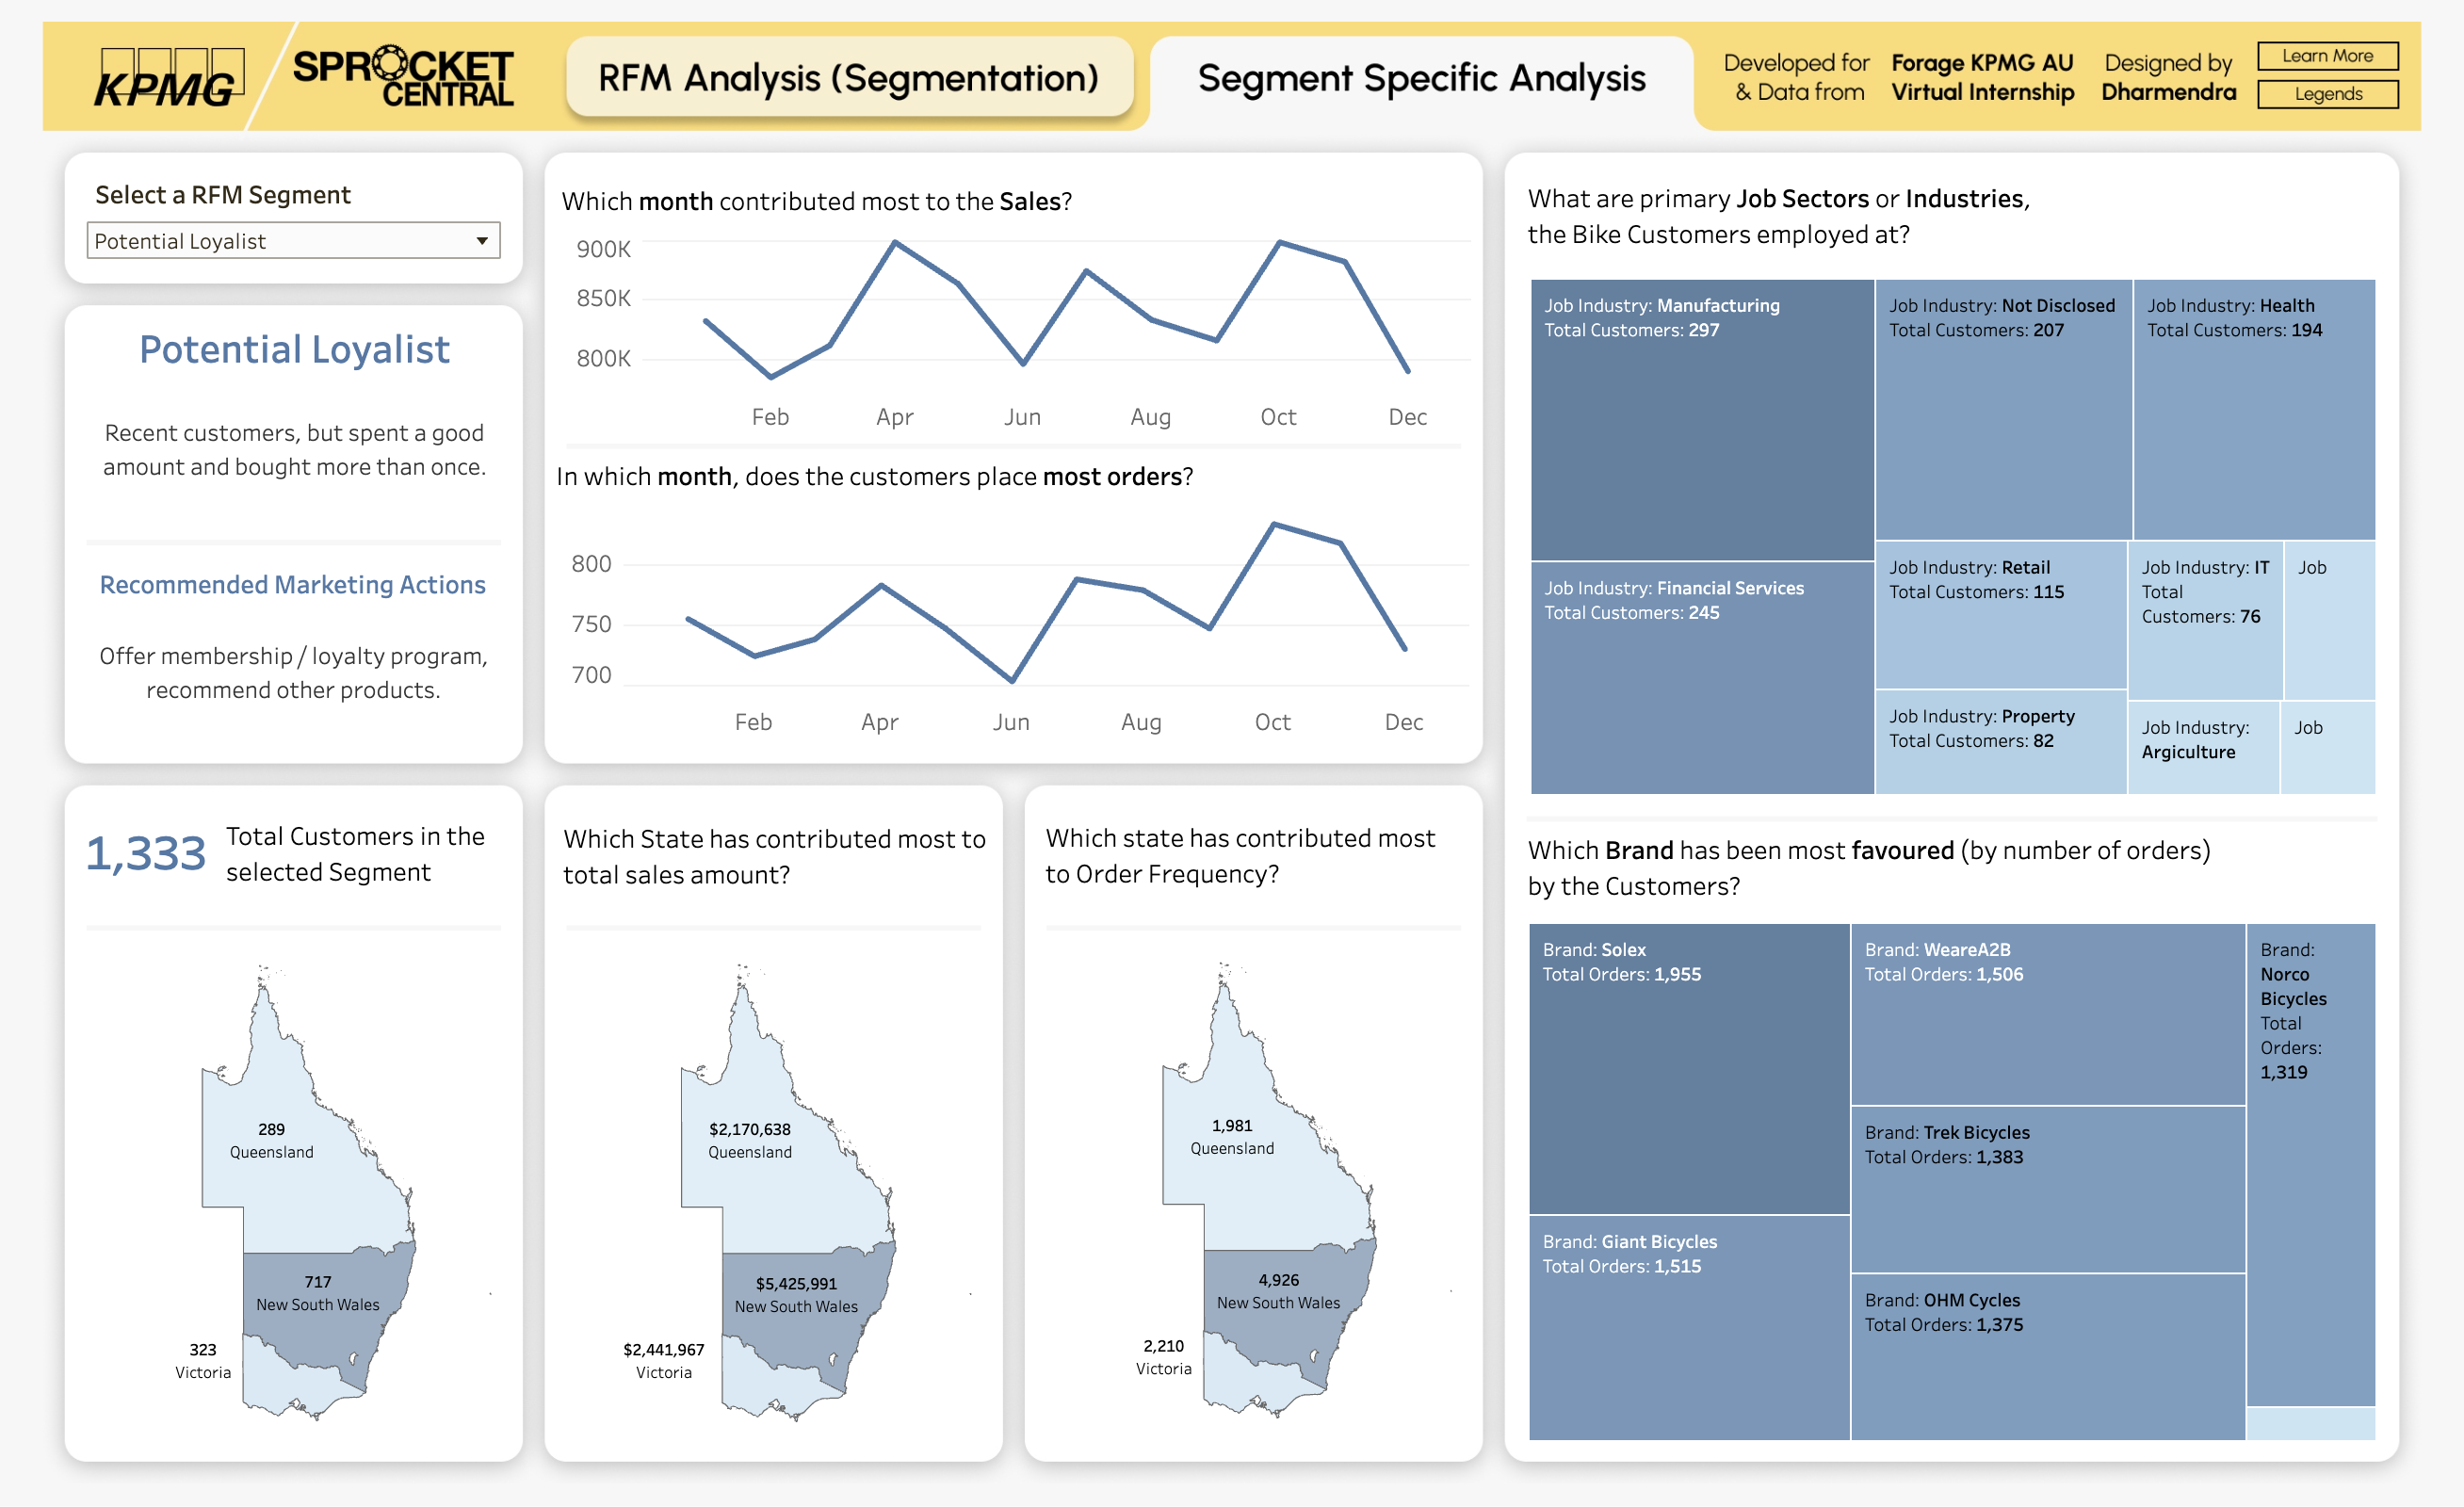

What the dashboard file says about the page in this screenshot:
{"tool":"tableau","page":{"name":"Segment Analysis","canvas":[1308,800],"ordinal":1},"visuals":[{"type":"image","param":"Image/Tableau_ Segment2.png","box":[8,8,1292,784]},{"type":"dashboard-object","box":[309,21,286,41]},{"type":"image","param":"Image/Transparent circle.png","box":[1198,22,76,16]},{"type":"image","param":"Image/Transparent circle.png","box":[1113,23,76,36]},{"type":"text","box":[298,86,481,41]},{"type":"text","box":[811,91,448,48]},{"type":"parameter","param":"[Parameters].[Parameter 12]","box":[45,94,222,53]},{"type":"worksheet","title":"Sales Trend","mark":"Automatic","rows":["list_price"],"cols":["transaction_date"],"box":[296,124,485,112]},{"type":"worksheet","title":"Job Industry","mark":"Automatic","box":[808,144,457,307]},{"type":"blank","box":[34,165,244,322]},{"type":"text","box":[47,170,219,30]},{"type":"worksheet","title":"RFM Segement (Desc)","mark":"Automatic","box":[44,194,225,89]},{"type":"text","box":[295,232,481,41]},{"type":"worksheet","title":"Order Trend","mark":"Automatic","rows":["transaction_id"],"cols":["transaction_date"],"box":[295,273,485,125]},{"type":"text","box":[44,295,223,30]},{"type":"worksheet","title":"RFM Segment (Action)","mark":"Automatic","box":[41,315,230,84]},{"type":"text","box":[299,426,226,58]},{"type":"worksheet","title":"Total Customers","mark":"Automatic","box":[40,427,75,50]},{"type":"text","box":[555,427,222,55]},{"type":"text","box":[120,428,146,51]},{"type":"text","box":[811,437,448,48]},{"type":"worksheet","title":"Brand Cat","mark":"Automatic","box":[807,486,458,305]},{"type":"worksheet","title":"State Bif Freq","mark":"Multipolygon","box":[548,502,236,269]},{"type":"worksheet","title":"State Bif Sales","mark":"Multipolygon","box":[292,504,237,268]},{"type":"worksheet","title":"State Bifurcation","mark":"Multipolygon","box":[38,505,236,266]}]}

Visuals, with their boxes in screenshot pixels (x1, y1, x2, y2), scaled from the page's 1308x800 canvas onto the 2464x1507 screenshot:
image: box=[15, 15, 2449, 1492]
dashboard-object: box=[582, 40, 1121, 117]
image: box=[2257, 41, 2400, 72]
image: box=[2097, 43, 2240, 111]
text: box=[561, 162, 1467, 239]
text: box=[1528, 171, 2372, 262]
parameter: box=[85, 177, 503, 277]
"Sales Trend" worksheet: box=[558, 234, 1471, 445]
"Job Industry" worksheet: box=[1522, 271, 2383, 850]
blank: box=[64, 311, 524, 917]
text: box=[89, 320, 501, 377]
"RFM Segement (Desc)" worksheet: box=[83, 365, 507, 533]
text: box=[556, 437, 1462, 514]
"Order Trend" worksheet: box=[556, 514, 1469, 750]
text: box=[83, 556, 503, 612]
"RFM Segment (Action)" worksheet: box=[77, 593, 511, 752]
text: box=[563, 802, 989, 912]
"Total Customers" worksheet: box=[75, 804, 217, 899]
text: box=[1046, 804, 1464, 908]
text: box=[226, 806, 501, 902]
text: box=[1528, 823, 2372, 914]
"Brand Cat" worksheet: box=[1520, 916, 2383, 1490]
"State Bif Freq" worksheet (Multipolygon marks): box=[1032, 946, 1477, 1452]
"State Bif Sales" worksheet (Multipolygon marks): box=[550, 949, 997, 1454]
"State Bifurcation" worksheet (Multipolygon marks): box=[72, 951, 516, 1452]
